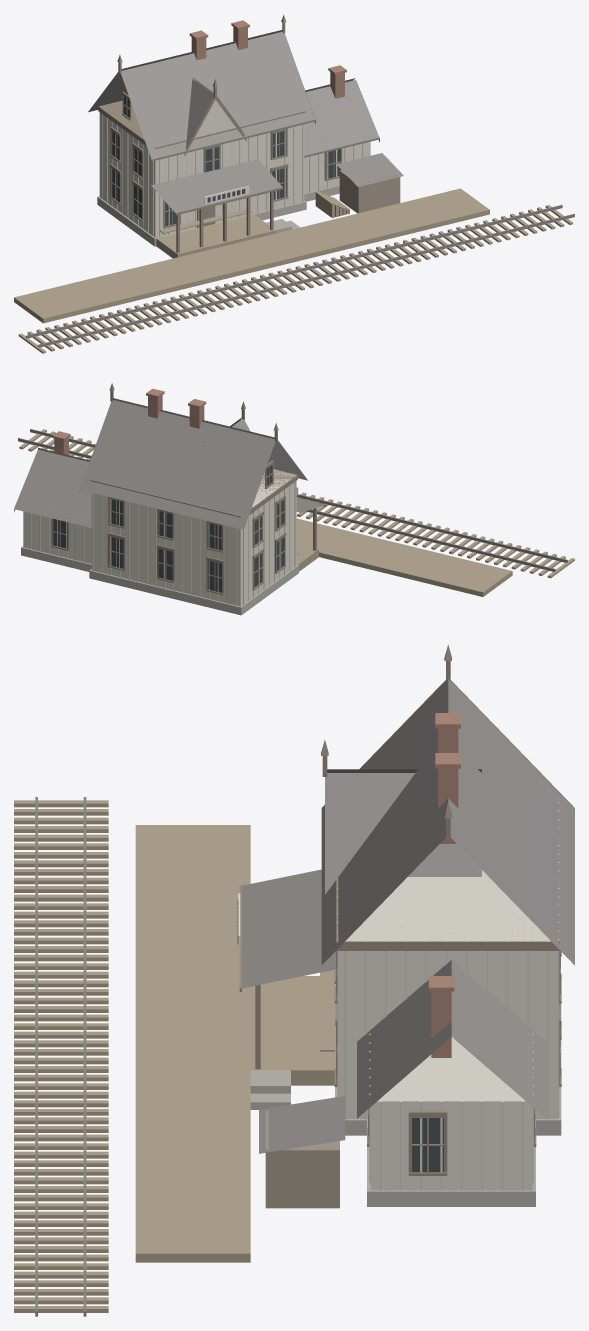
File: mcdonogh-station.glb
3 renders of one model, top to bottom at view 1: azimuth 30°, elevation 25°; view 2: azimuth 150°, elevation 25°; view 3: azimuth 270°, elevation 25°, orthographic. The views are drawn at different scales.
Parts seen in each view (by area): view 1: station_roof_photo, station_deck_inferred, station_wall_photo, station_trim_photo, station_rail_inferred, station_deck_photo, station_batten_photo, station_glass_photo, station_shed_photo, station_stone_inferred, station_brick_photo; view 2: station_roof_photo, station_wall_photo, station_deck_inferred, station_batten_photo, station_trim_photo, station_stone_inferred, station_rail_inferred, station_glass_inferred, station_trim_inferred, station_brick_photo, station_glass_photo, station_deck_photo; view 3: station_deck_inferred, station_roof_photo, station_wall_photo, station_deck_photo, station_trim_photo, station_batten_photo, station_shed_photo, station_stone_inferred, station_brick_photo, station_rail_inferred, station_stone_photo, station_glass_photo.
Boxes of the visible parts, left/top/right/bottom form: station_roof_photo: left=88, top=30, right=403, bottom=212; station_deck_inferred: left=14, top=188, right=572, bottom=353; station_wall_photo: left=99, top=100, right=370, bottom=237; station_trim_photo: left=98, top=14, right=379, bottom=252; station_rail_inferred: left=26, top=205, right=574, bottom=347; station_deck_photo: left=156, top=191, right=349, bottom=258; station_batten_photo: left=101, top=111, right=363, bottom=236; station_glass_photo: left=112, top=96, right=340, bottom=226; station_shed_photo: left=339, top=170, right=400, bottom=213; station_stone_inferred: left=97, top=185, right=339, bottom=246; station_brick_photo: left=189, top=20, right=346, bottom=98; station_roof_photo: left=14, top=398, right=324, bottom=529; station_wall_photo: left=23, top=469, right=296, bottom=606; station_deck_inferred: left=19, top=429, right=574, bottom=596; station_batten_photo: left=30, top=469, right=295, bottom=605; station_trim_photo: left=14, top=383, right=326, bottom=589; station_stone_inferred: left=21, top=546, right=298, bottom=615; station_rail_inferred: left=18, top=429, right=567, bottom=571; station_glass_inferred: left=53, top=499, right=221, bottom=592; station_trim_inferred: left=51, top=497, right=223, bottom=594; station_brick_photo: left=52, top=388, right=206, bottom=455; station_glass_photo: left=254, top=465, right=284, bottom=587; station_deck_photo: left=296, top=544, right=318, bottom=571; station_deck_inferred: left=14, top=800, right=250, bottom=1312; station_roof_photo: left=242, top=679, right=574, bottom=1153; station_wall_photo: left=338, top=870, right=557, bottom=1190; station_deck_photo: left=250, top=969, right=335, bottom=1085; station_trim_photo: left=239, top=645, right=574, bottom=1175; station_batten_photo: left=337, top=802, right=559, bottom=1190; station_shed_photo: left=265, top=1110, right=339, bottom=1208; station_stone_inferred: left=335, top=984, right=561, bottom=1206; station_brick_photo: left=428, top=713, right=460, bottom=1057; station_rail_inferred: left=35, top=797, right=86, bottom=1316; station_stone_photo: left=250, top=1070, right=290, bottom=1109; station_glass_photo: left=412, top=1118, right=443, bottom=1172.
Bounding box in the file's own units: 36.11 × 11.14 × 16.6.
